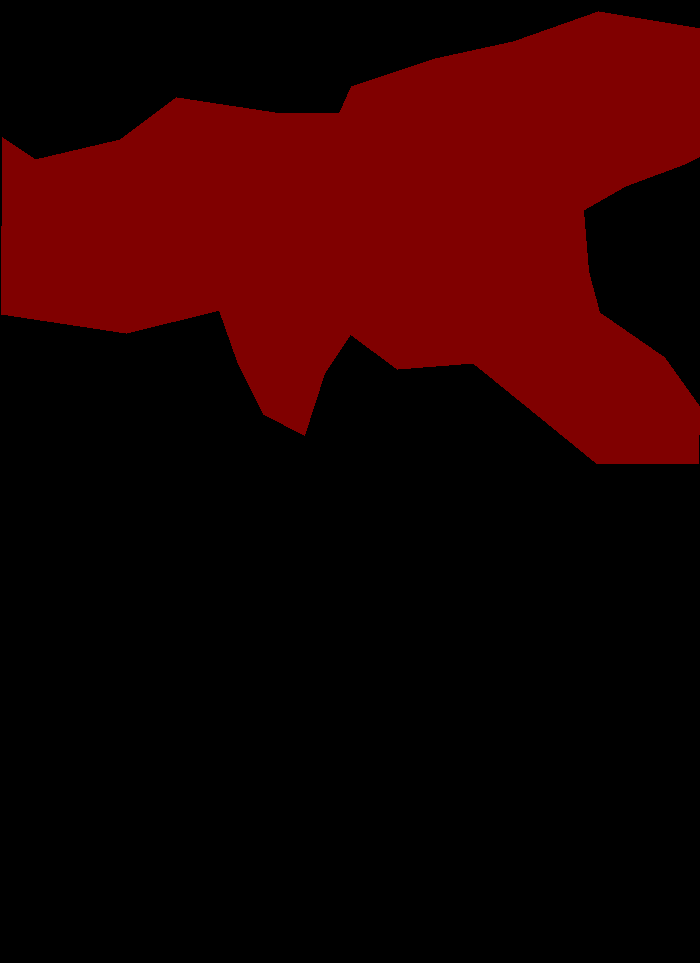fire: (1, 11, 700, 463)
